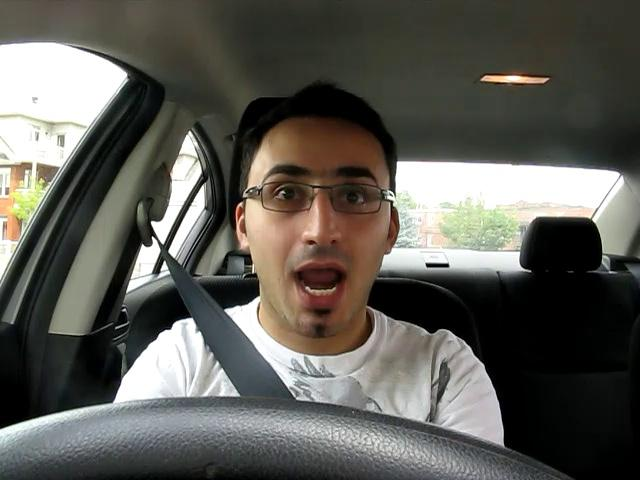open_eyeL: (248, 174, 318, 216)
open_eyeR: (325, 178, 389, 218)
yawn: (279, 253, 363, 315)
